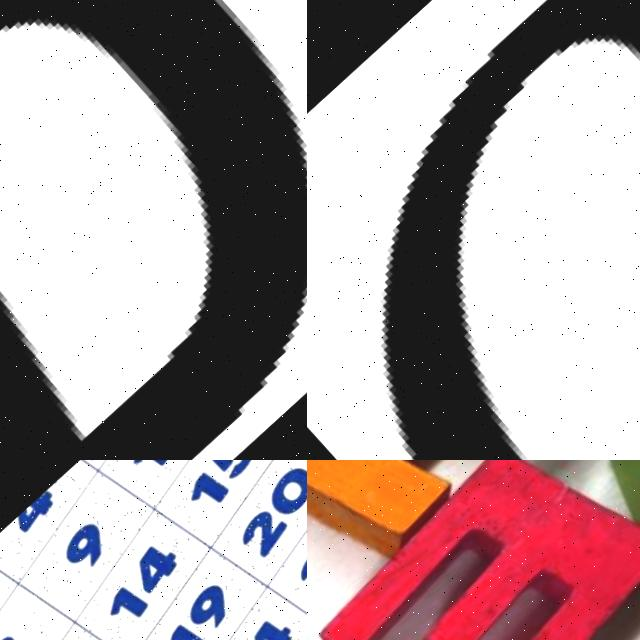0: (252, 460, 307, 527)
1: (173, 460, 240, 526), (93, 577, 157, 640), (114, 460, 185, 488), (150, 612, 216, 640)
2: (223, 494, 297, 569), (283, 531, 307, 608)
4: (115, 527, 197, 608), (5, 481, 75, 548), (225, 599, 307, 640)
5: (192, 460, 273, 492)
9: (41, 504, 127, 590), (174, 571, 247, 640)
D: (0, 0, 307, 460)
R: (307, 460, 562, 592)
